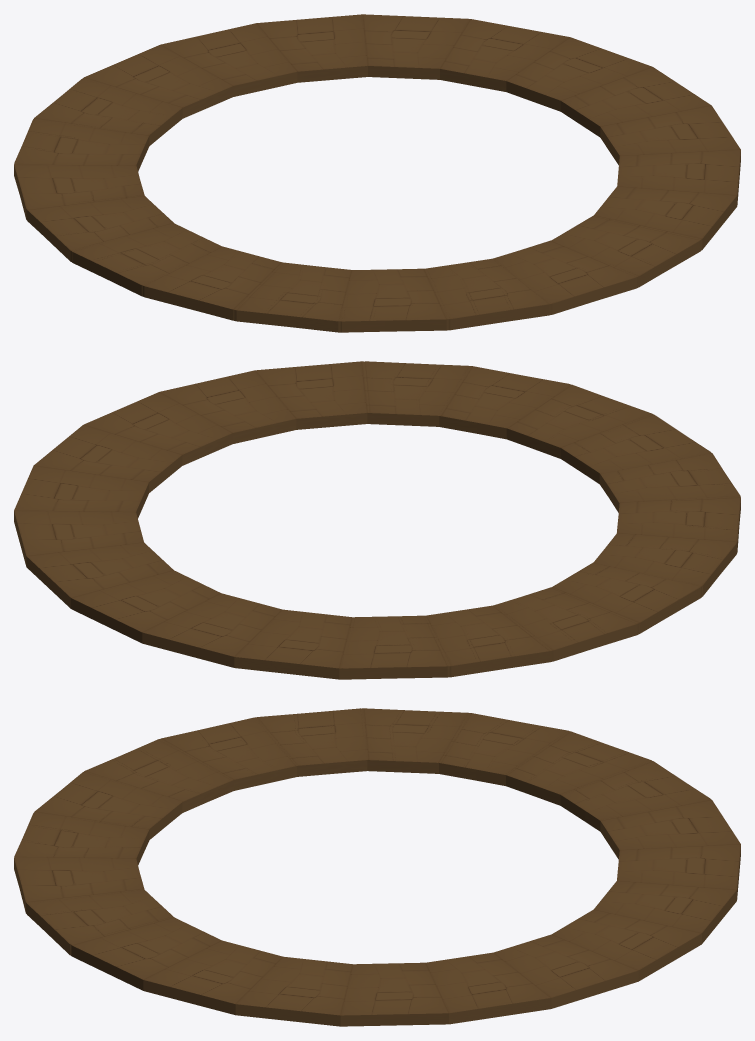
File: strada_circolare.glb
The picture shows the model from 3 angles, top to bottom: view 1: azimuth 30°, elevation 25°; view 2: azimuth 150°, elevation 25°; view 3: azimuth 270°, elevation 25°; orthographic projection.
Visible parts, largest first — view 1: Cube.001; view 2: Cube.001; view 3: Cube.001.
Boxes of the visible parts, left/top/right/bottom form: Cube.001: left=14, top=14, right=740, bottom=332; Cube.001: left=14, top=361, right=740, bottom=679; Cube.001: left=14, top=708, right=740, bottom=1026.
Size of the model in its own units: 11.91 by 0.2 by 11.91.
1 material, 1 textured.
